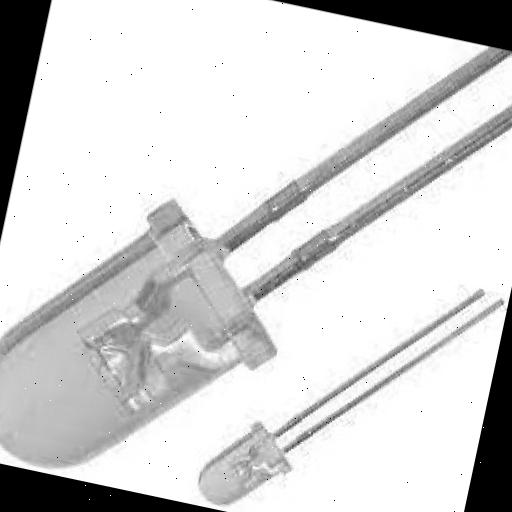LED: (0, 150, 282, 509), (155, 339, 359, 512)
